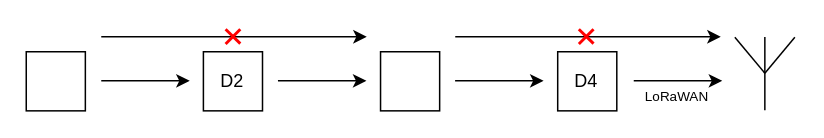
Some shapes in this 824 by 138 pixel diagram are drawn without their labels. Each missing label, with the centre of its shape:
"D1" belongs at [55,80].
"D3" belongs at [409,80].
